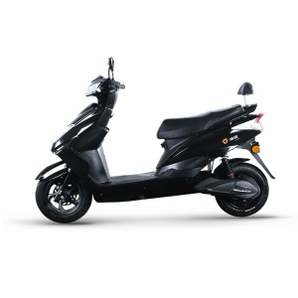MNV: (35, 62, 269, 223)
